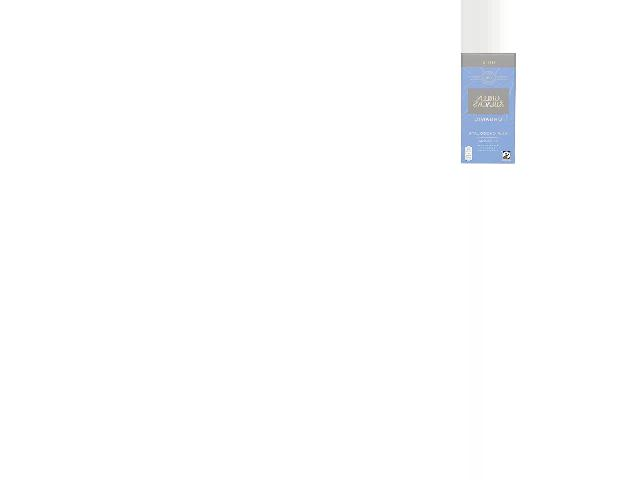chocolate: (459, 53, 516, 162)
